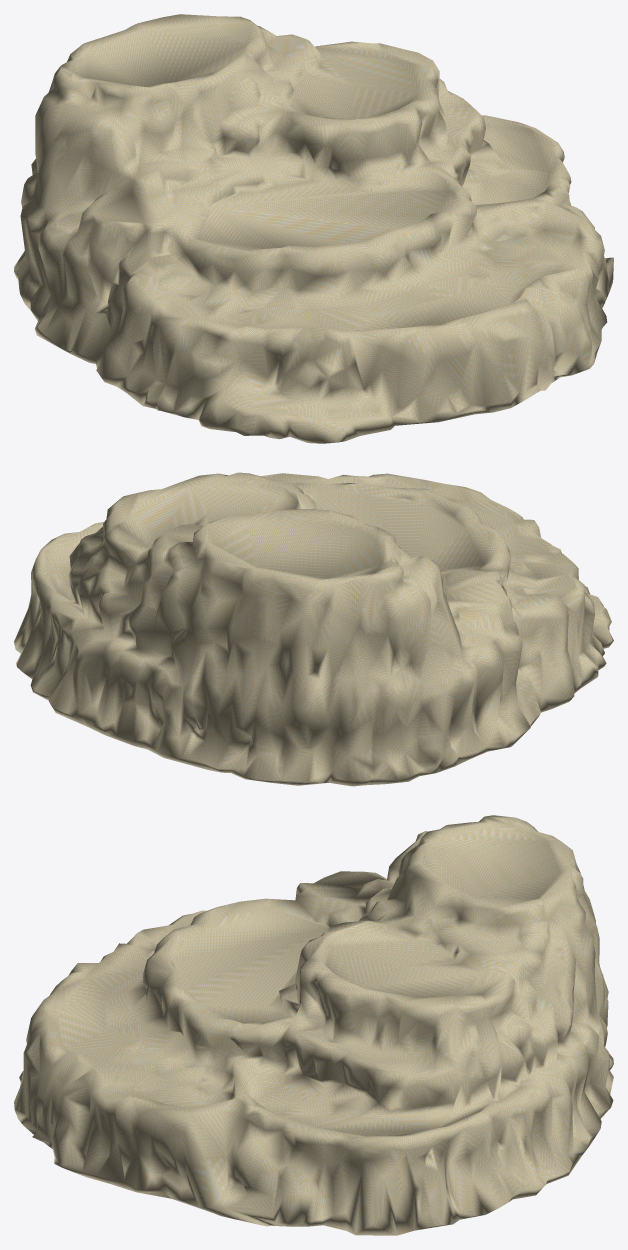
Rendered from hlg-travertine.glb.
3 renders of one model, top to bottom at view 1: azimuth 30°, elevation 25°; view 2: azimuth 150°, elevation 25°; view 3: azimuth 270°, elevation 25°, orthographic. The views are drawn at different scales.
Visible parts, largest first — view 1: geometry_0; view 2: geometry_0; view 3: geometry_0.
Part boxes in pixels (x1,y1,x2,y2): geometry_0: (14, 14, 613, 443); geometry_0: (14, 472, 613, 786); geometry_0: (14, 815, 613, 1235).
Size of the model in its own units: 39258 by 15349 by 39501.
Materials: 1 (1 with a texture image).
